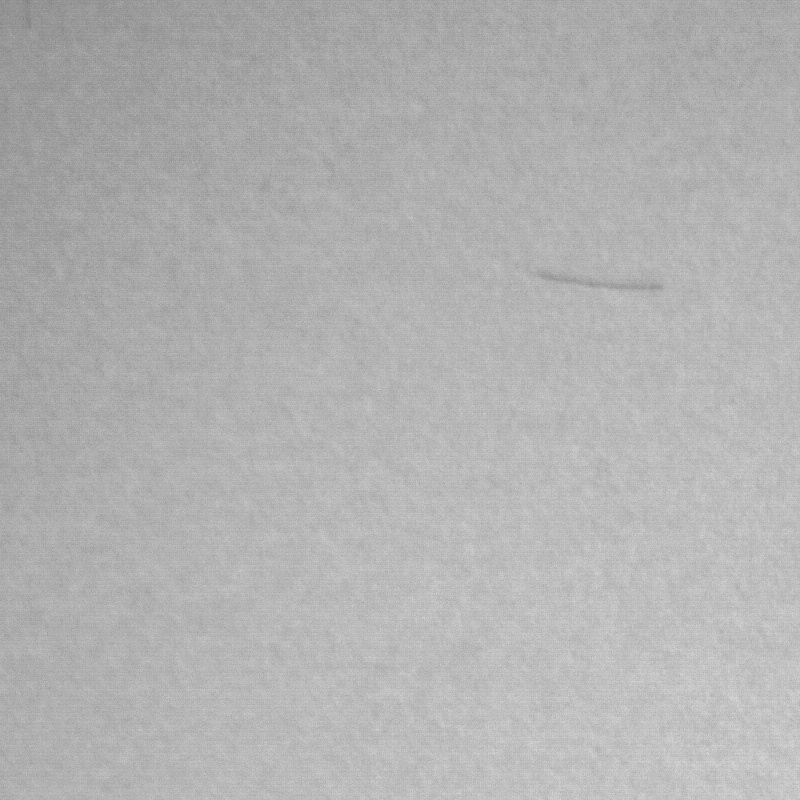defect: (544, 269, 669, 289)
